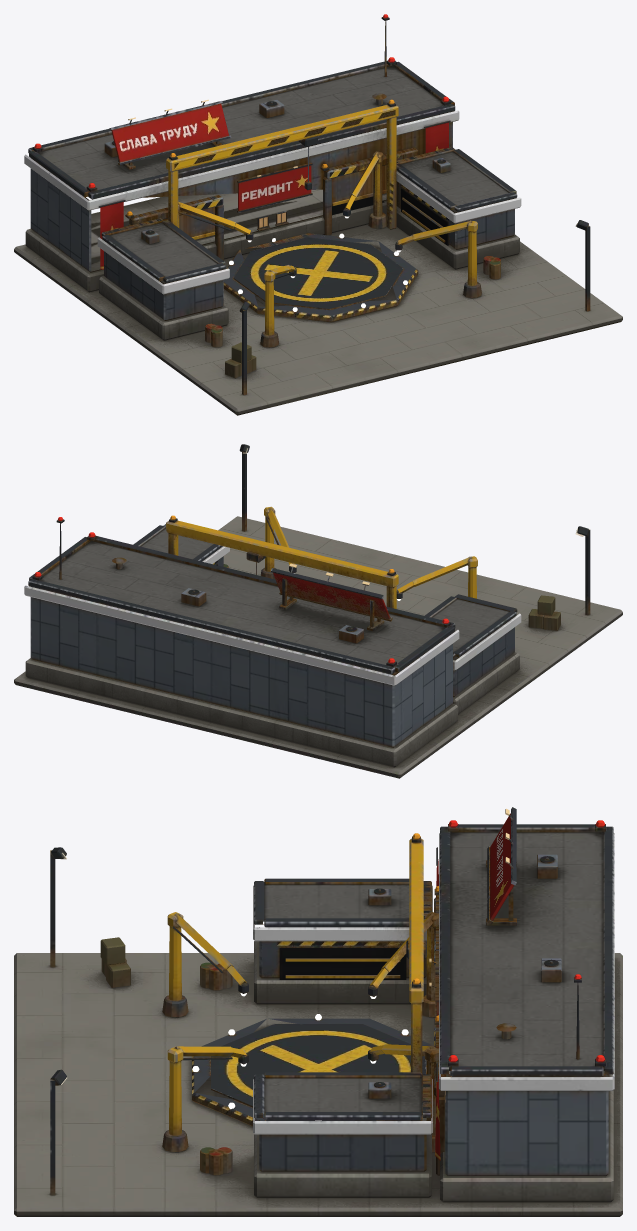
Rendered from fix.soviet.glb.
The picture shows the model from 3 angles, top to bottom: view 1: azimuth 30°, elevation 25°; view 2: azimuth 150°, elevation 25°; view 3: azimuth 270°, elevation 25°; orthographic projection. The views are drawn at different scales.
Visible parts, largest first — view 1: root_mesh; view 2: root_mesh; view 3: root_mesh.
Boxes of the visible parts, x1,y1,x2,y2 form: root_mesh: [14, 14, 622, 415]; root_mesh: [14, 444, 622, 778]; root_mesh: [14, 807, 622, 1216].
Size of the model in its own units: 2.98 by 1.21 by 2.98.
3 materials, 1 textured.
